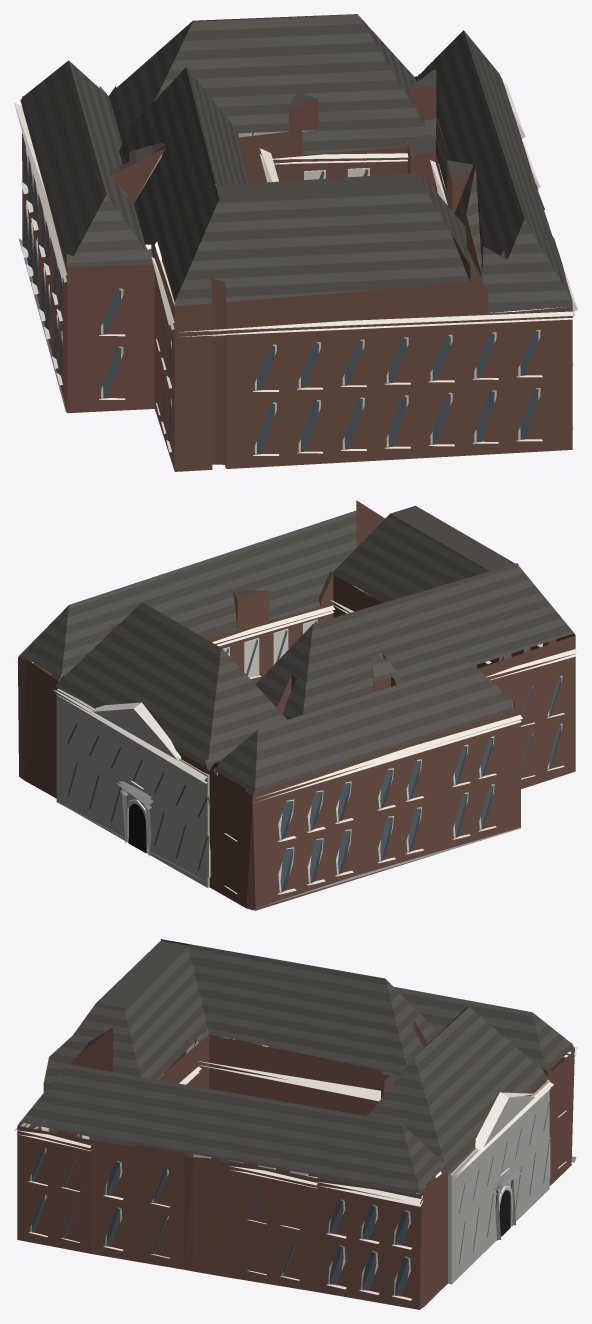
The model's file is west-india-house.lod1.glb.
The picture shows the model from 3 angles, top to bottom: view 1: azimuth 30°, elevation 25°; view 2: azimuth 150°, elevation 25°; view 3: azimuth 270°, elevation 25°; orthographic projection. The views are drawn at different scales.
Visible parts, largest first — view 1: west-india-house; view 2: west-india-house; view 3: west-india-house.
Part boxes in pixels (x1,y1,x2,y2): west-india-house: (14, 14, 577, 471); west-india-house: (16, 500, 577, 910); west-india-house: (14, 939, 577, 1309).
Size of the model in its own units: 37.44 by 16.94 by 43.13.
